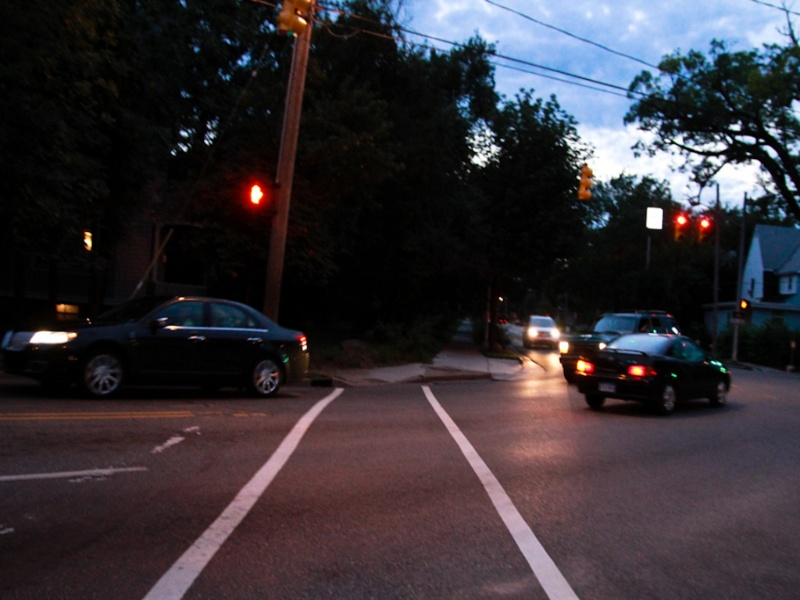red_light: (676, 209, 715, 244)
